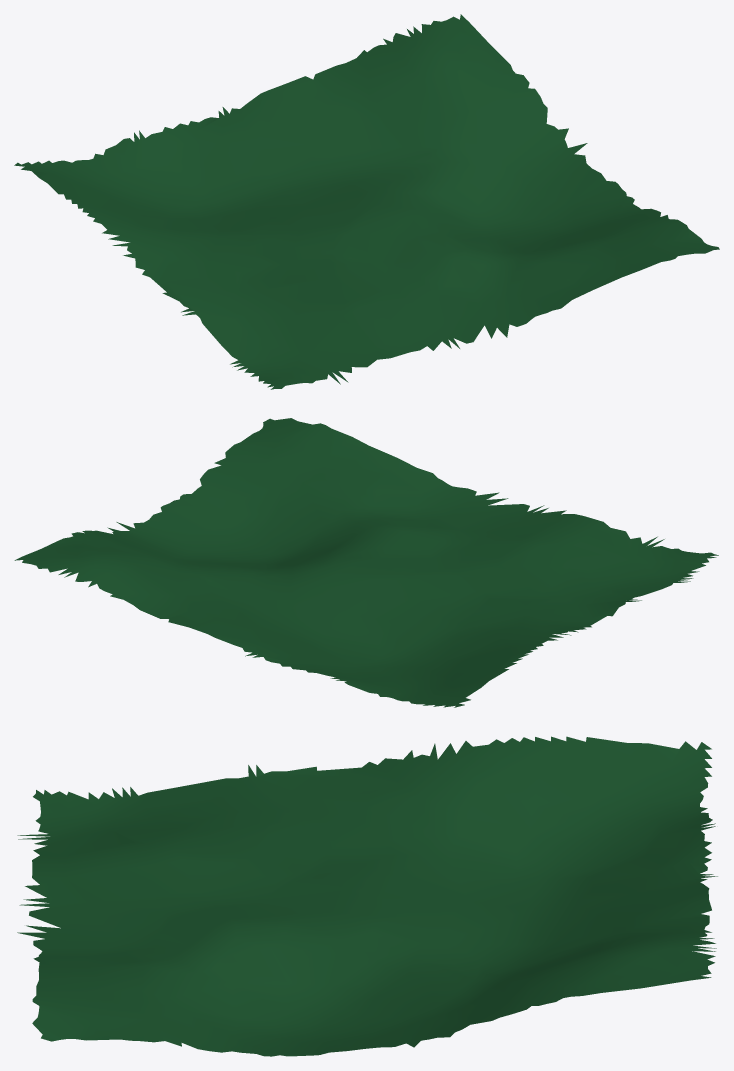
The model's file is payo_land_x3_y2_lod2.glb.
3 views of the same model, one above another, from view 1: azimuth 30°, elevation 25°; view 2: azimuth 150°, elevation 25°; view 3: azimuth 270°, elevation 25° (orthographic). The views are drawn at different scales.
Visible parts, largest first — view 1: payo_land_x3_y2; view 2: payo_land_x3_y2; view 3: payo_land_x3_y2.
Part boxes in pixels (x1,y1,x2,y2): payo_land_x3_y2: (14, 14, 719, 389); payo_land_x3_y2: (14, 418, 718, 707); payo_land_x3_y2: (17, 736, 717, 1056).
Bounding box in the file's own units: 269 × 43.64 × 269.
